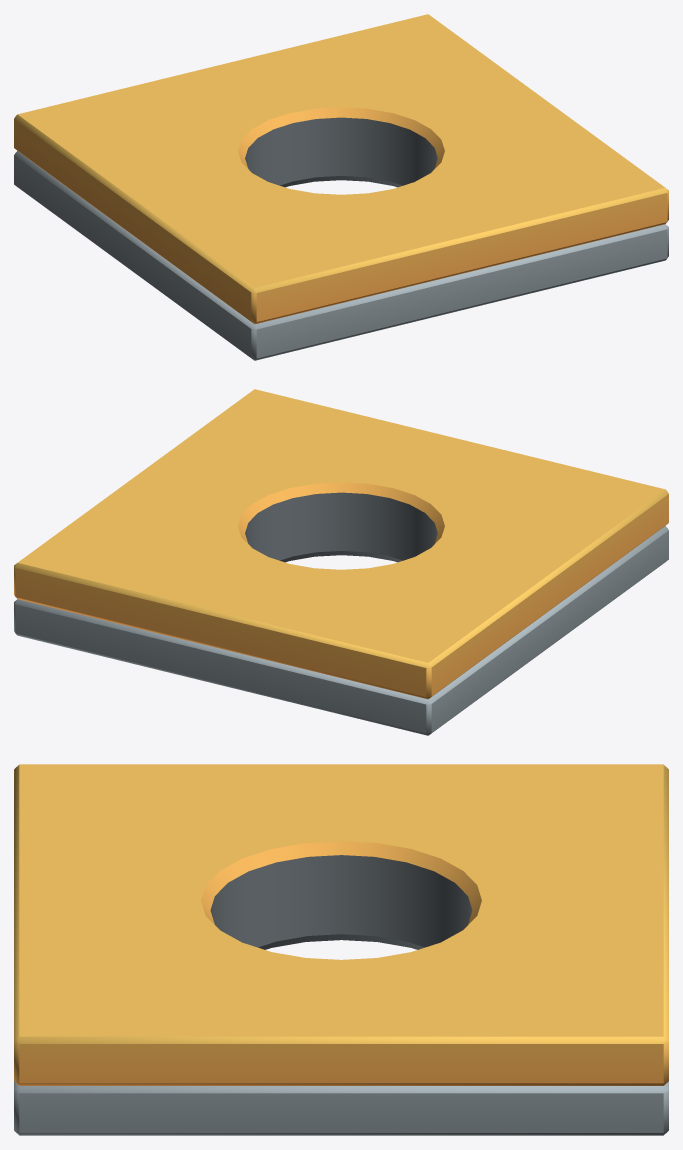
The model's file is platform_hole_6x6x1_yellow.glb.
3 renders of one model, top to bottom at view 1: azimuth 30°, elevation 25°; view 2: azimuth 150°, elevation 25°; view 3: azimuth 270°, elevation 25°, orthographic. The views are drawn at different scales.
Parts seen in each view (by area): view 1: platform_hole_6x6x1_yellow; view 2: platform_hole_6x6x1_yellow; view 3: platform_hole_6x6x1_yellow.
Part boxes in pixels (bbox=[...]): platform_hole_6x6x1_yellow: bbox=[14, 14, 668, 360]; platform_hole_6x6x1_yellow: bbox=[14, 389, 668, 735]; platform_hole_6x6x1_yellow: bbox=[14, 764, 668, 1135].
Bounding box in the file's own units: 6 × 1 × 6.
1 material, 1 textured.
